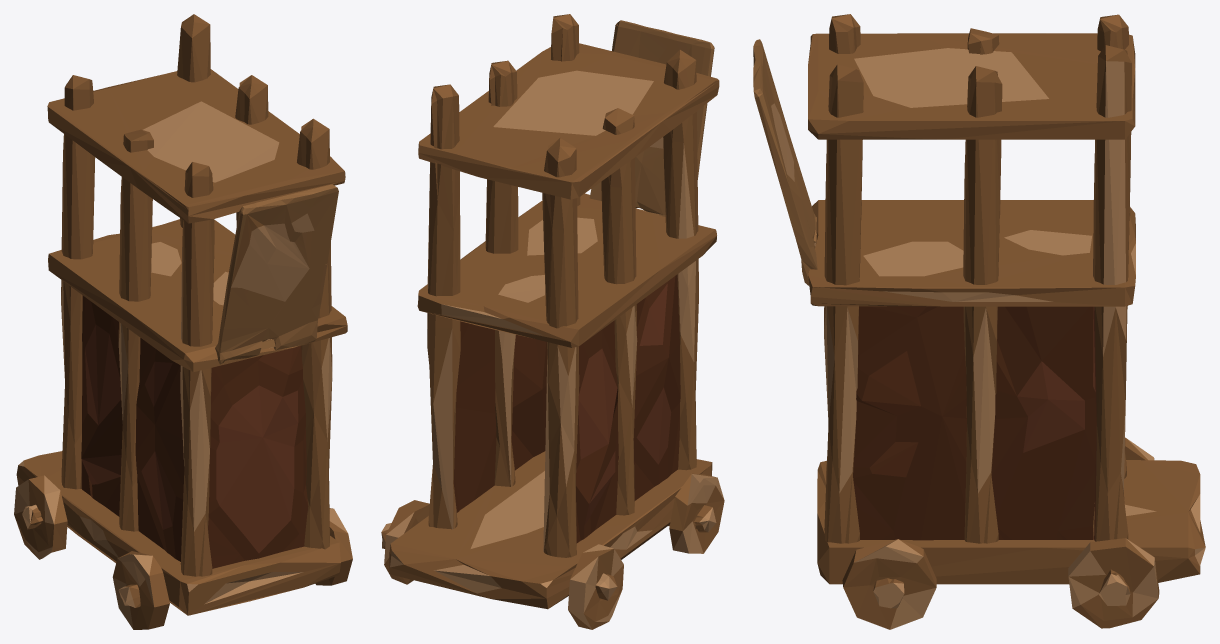
Rendered from LPSWP_Belfry02.fbx.
3 renders of one model, left to right at view 1: azimuth 30°, elevation 25°; view 2: azimuth 150°, elevation 25°; view 3: azimuth 270°, elevation 25°, orthographic. The views are drawn at different scales.
Parts seen in each view (by area): view 1: LPSWP_Belfry02, LPSWP_Belfry02_Handle, LPSWP_Belfry02_ForwardWheel, LPSWP_Belfry02_BackwardWheel; view 2: LPSWP_Belfry02, LPSWP_Belfry02_Handle, LPSWP_Belfry02_BackwardWheel, LPSWP_Belfry02_ForwardWheel; view 3: LPSWP_Belfry02, LPSWP_Belfry02_BackwardWheel, LPSWP_Belfry02_ForwardWheel, LPSWP_Belfry02_Handle.
Boxes of the visible parts, x1,y1,x2,y2 form: LPSWP_Belfry02: (16, 14, 347, 615); LPSWP_Belfry02_Handle: (215, 184, 338, 364); LPSWP_Belfry02_ForwardWheel: (112, 508, 352, 629); LPSWP_Belfry02_BackwardWheel: (14, 475, 67, 559); LPSWP_Belfry02: (389, 14, 719, 609); LPSWP_Belfry02_Handle: (589, 20, 714, 216); LPSWP_Belfry02_BackwardWheel: (381, 500, 623, 629); LPSWP_Belfry02_ForwardWheel: (668, 473, 724, 553); LPSWP_Belfry02: (808, 14, 1205, 584); LPSWP_Belfry02_BackwardWheel: (1068, 437, 1159, 628); LPSWP_Belfry02_ForwardWheel: (842, 539, 936, 629); LPSWP_Belfry02_Handle: (753, 39, 817, 285).
Size of the model in its own units: 2.82 by 5.98 by 4.36.
